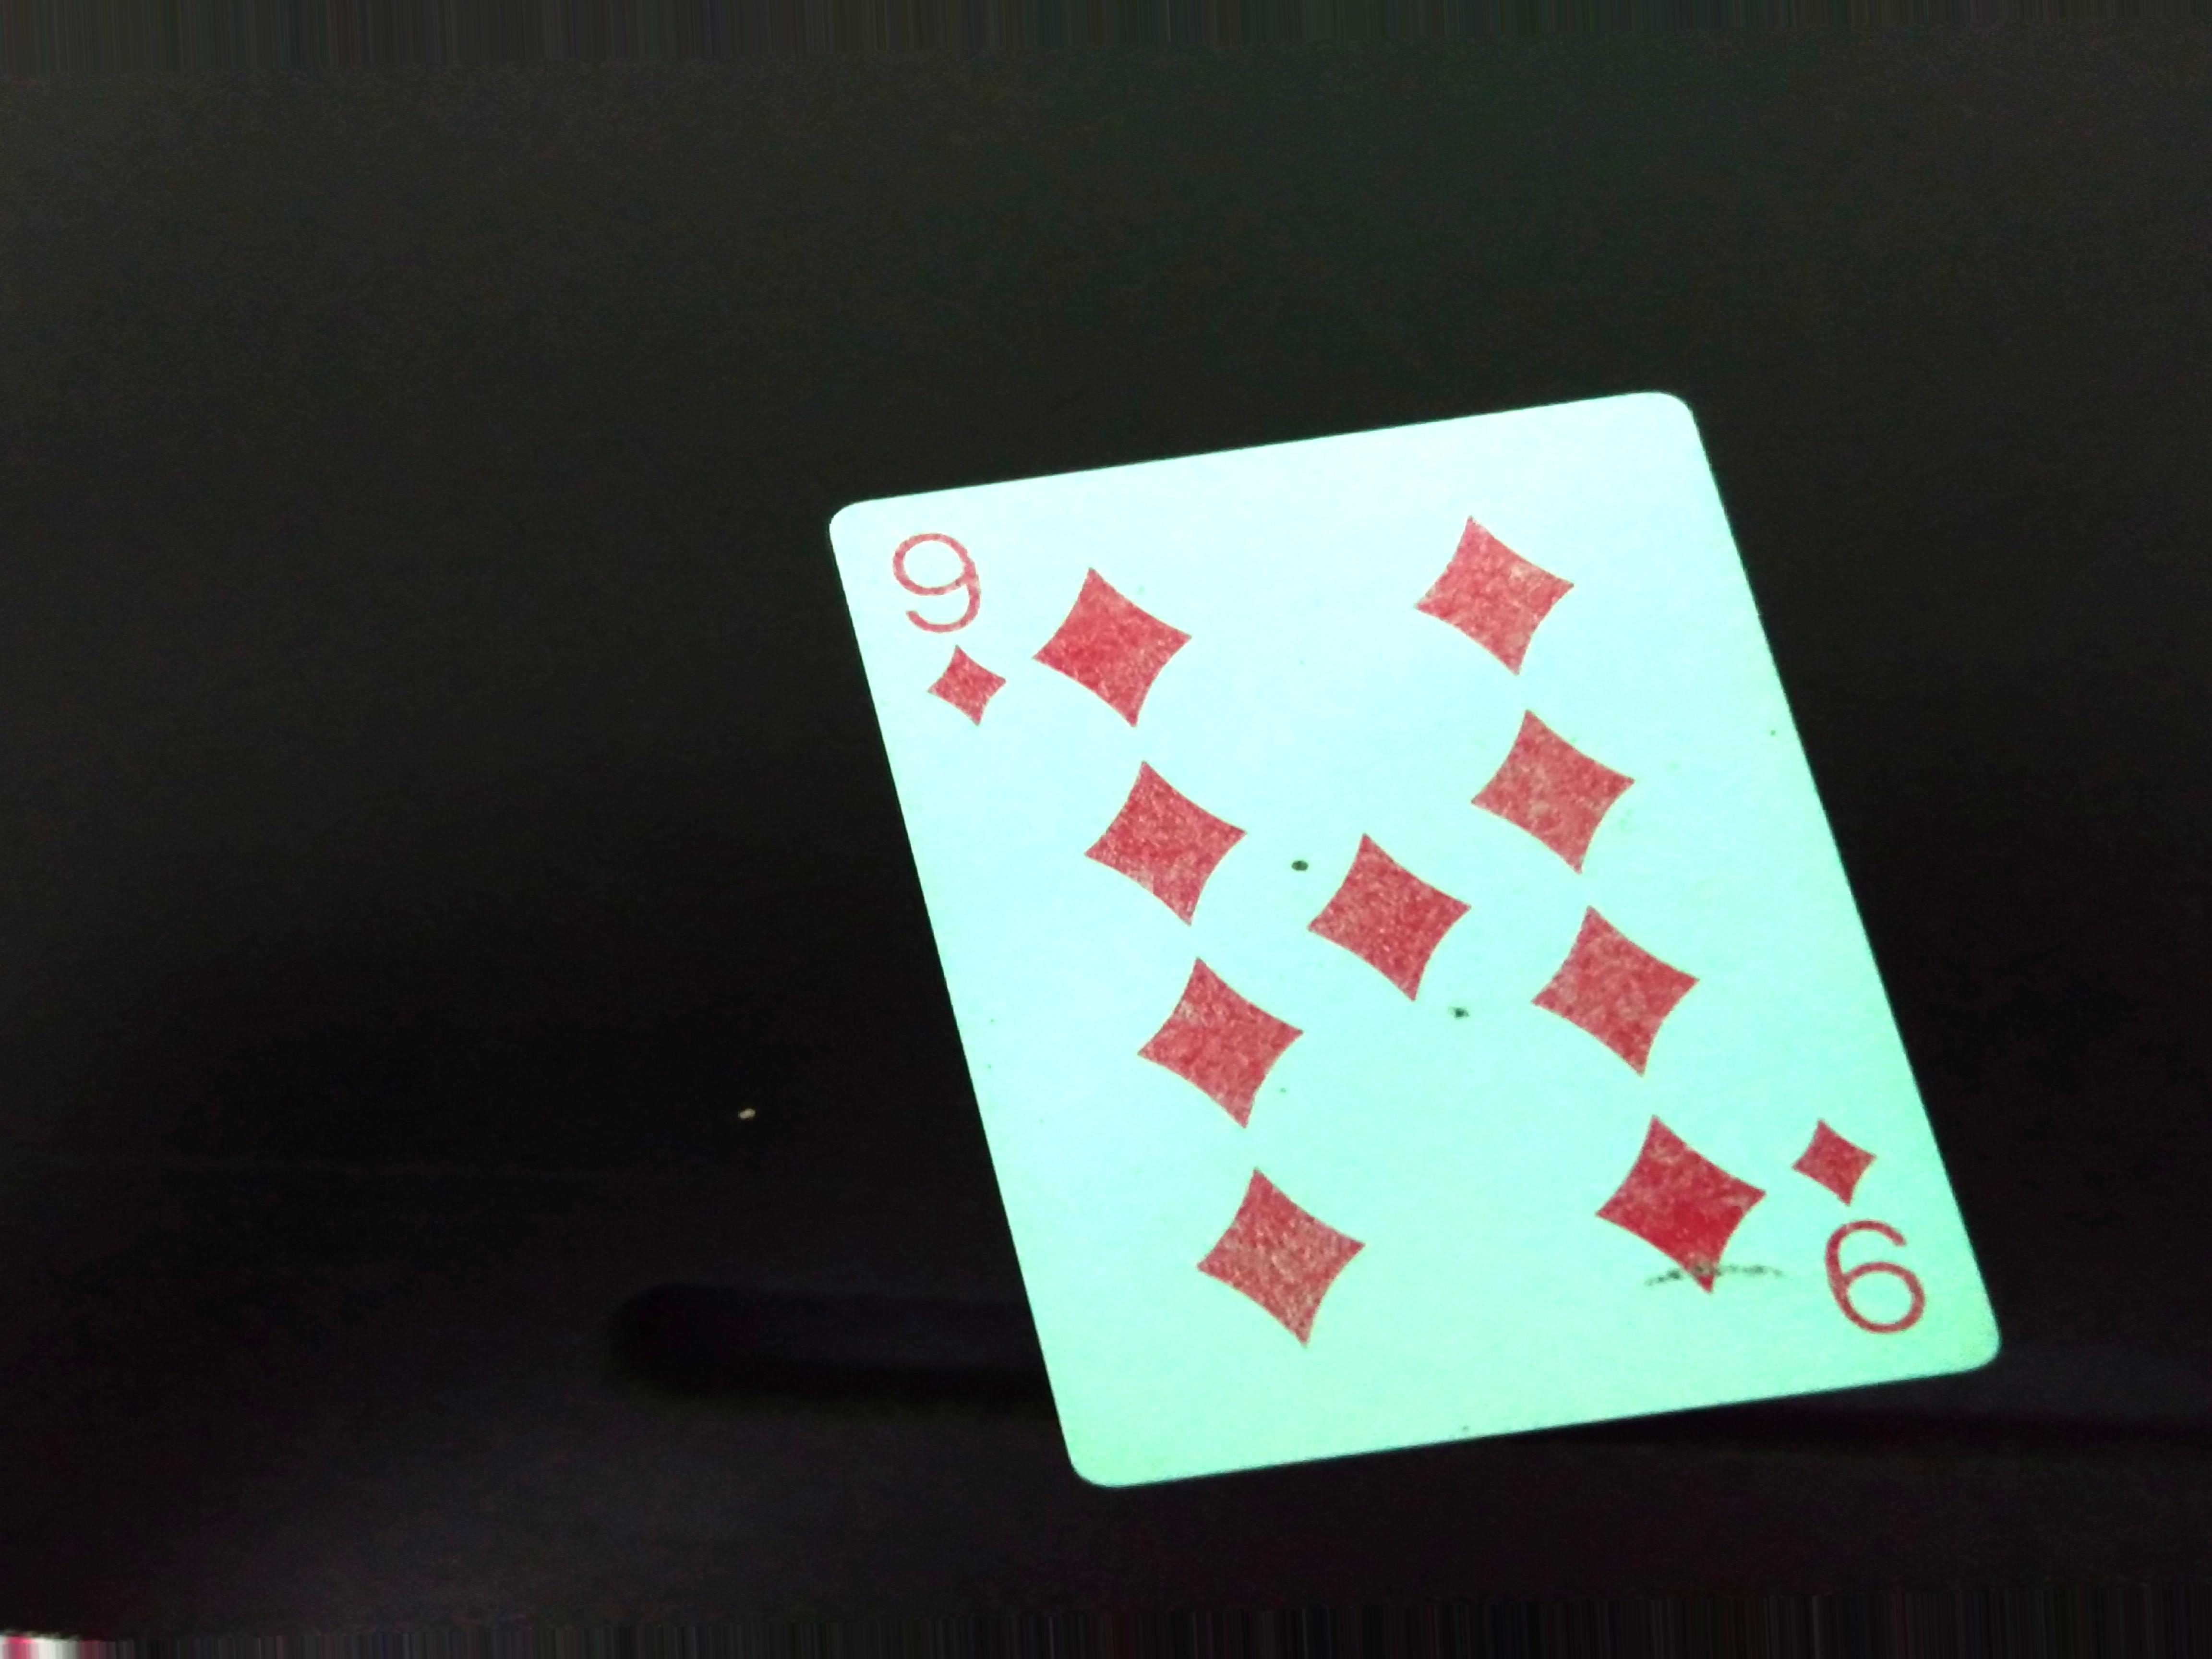9D: (869, 519, 1029, 751)
